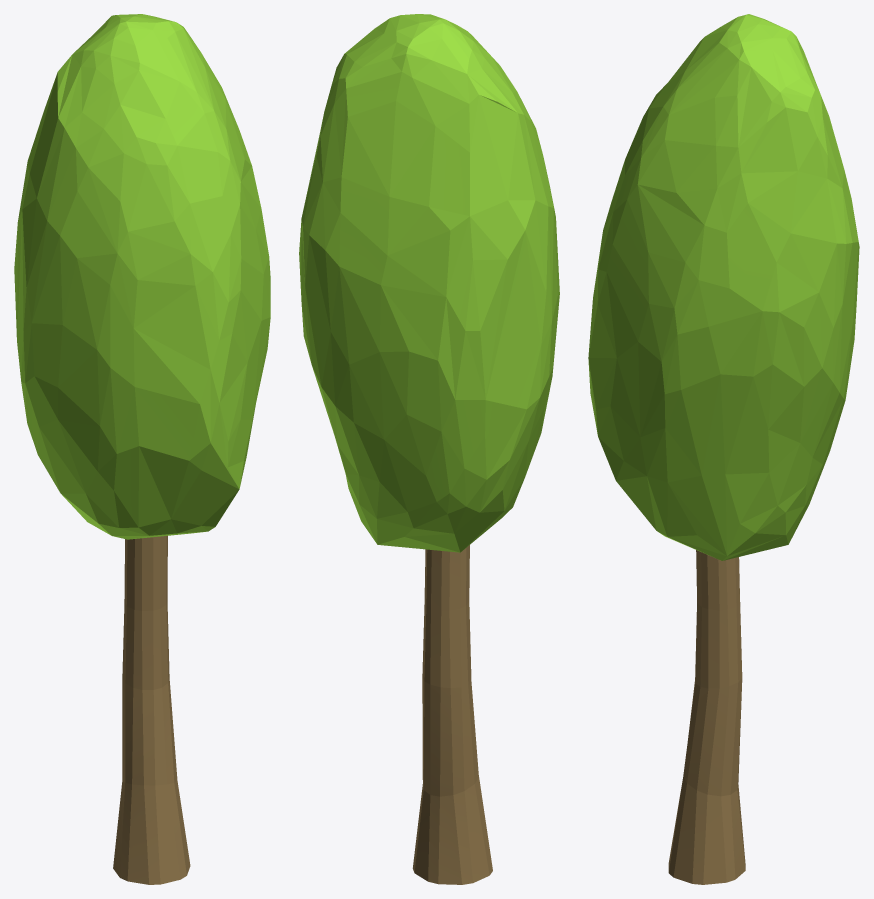
File: tree1.gltf
The picture shows the model from 3 angles, left to right: view 1: azimuth 30°, elevation 25°; view 2: azimuth 150°, elevation 25°; view 3: azimuth 270°, elevation 25°; orthographic projection. The views are drawn at different scales.
Visible parts, largest first — view 1: TreeV2.000; view 2: TreeV2.000; view 3: TreeV2.000.
Boxes of the visible parts, bbox=[...] form: TreeV2.000: bbox=[14, 14, 270, 884]; TreeV2.000: bbox=[299, 14, 559, 884]; TreeV2.000: bbox=[588, 14, 859, 884].
Size of the model in its own units: 0.883 by 3.22 by 0.9295.
Materials: 1 (1 with a texture image).
